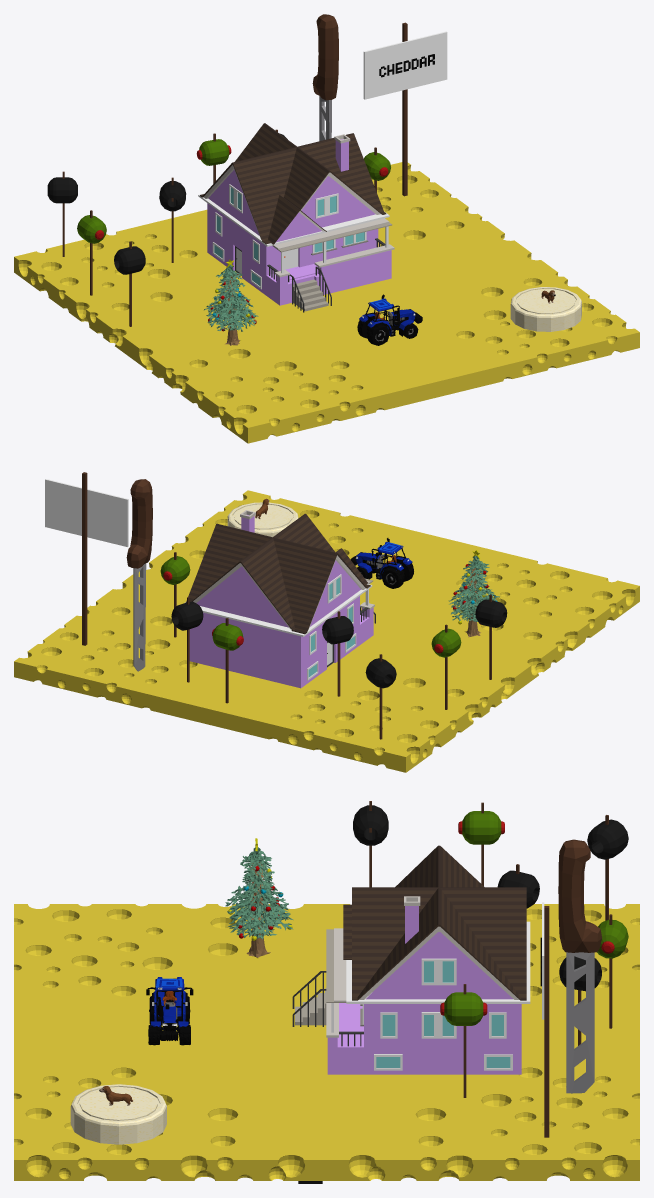
The picture shows the model from 3 angles, top to bottom: view 1: azimuth 30°, elevation 25°; view 2: azimuth 150°, elevation 25°; view 3: azimuth 270°, elevation 25°; orthographic projection. The views are drawn at different scales.
Visible parts, largest first — view 1: Cube.022, Cube.391, Cube.023, Cylinder.016, Cube.024, OBJRANDOM_CHRISTMAS_TREE, VEHICLES_TRACTOR, Sphere.017, Sphere.016, Sphere.020, Sphere.018, Sphere.022 (+1 smaller); view 2: Cube.022, Cube.391, Cube.023, Cube.024, OBJRANDOM_CHRISTMAS_TREE, VEHICLES_TRACTOR, Cylinder.016, Sphere.020, Sphere.016, Sphere.022, Sphere.017, Sphere.021 (+2 smaller); view 3: Cube.022, Cube.391, Cube.024, Cylinder.016, OBJRANDOM_CHRISTMAS_TREE, VEHICLES_TRACTOR, Cube.023, Sphere.019, Sphere.016, Sphere.018, Sphere.017, Sphere.022 (+2 smaller).
Boxes of the visible parts, left/top/right/bottom form: Cube.022: left=14, top=162, right=639, bottom=443; Cube.391: left=198, top=123, right=394, bottom=312; Cube.023: left=363, top=22, right=447, bottom=196; Cylinder.016: left=510, top=287, right=581, bottom=331; Cube.024: left=312, top=14, right=338, bottom=141; OBJRANDOM_CHRISTMAS_TREE: left=204, top=259, right=258, bottom=345; VEHICLES_TRACTOR: left=357, top=294, right=422, bottom=345; Sphere.017: left=114, top=241, right=145, bottom=326; Sphere.016: left=47, top=171, right=77, bottom=256; Sphere.020: left=159, top=177, right=186, bottom=262; Sphere.018: left=77, top=210, right=106, bottom=295; Sphere.022: left=196, top=133, right=231, bottom=183; Cube.022: left=14, top=490, right=639, bottom=772; Cube.391: left=185, top=510, right=375, bottom=688; Cube.023: left=45, top=472, right=128, bottom=645; Cube.024: left=126, top=479, right=152, bottom=671; OBJRANDOM_CHRISTMAS_TREE: left=448, top=550, right=499, bottom=637; VEHICLES_TRACTOR: left=350, top=538, right=413, bottom=588; Cylinder.016: left=227, top=502, right=298, bottom=537; Sphere.020: left=322, top=611, right=353, bottom=696; Sphere.016: left=365, top=654, right=396, bottom=739; Sphere.022: left=212, top=618, right=243, bottom=703; Sphere.017: left=475, top=594, right=507, bottom=679; Sphere.021: left=171, top=597, right=203, bottom=682; Cube.022: left=14, top=904, right=639, bottom=1180; Cube.391: left=292, top=845, right=530, bottom=1074; Cube.024: left=558, top=839, right=601, bottom=1093; Cylinder.016: left=70, top=1084, right=166, bottom=1144; OBJRANDOM_CHRISTMAS_TREE: left=225, top=838, right=293, bottom=958; VEHICLES_TRACTOR: left=146, top=977, right=193, bottom=1045; Cube.023: left=540, top=902, right=549, bottom=1137; Sphere.019: left=440, top=984, right=487, bottom=1097; Sphere.016: left=587, top=815, right=628, bottom=920; Sphere.018: left=458, top=802, right=504, bottom=885; Sphere.017: left=353, top=801, right=388, bottom=887; Sphere.022: left=597, top=914, right=628, bottom=1028.
Size of the model in its own units: 3917 by 2015 by 4000.
Materials: 36 (3 with a texture image).
